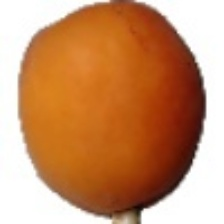apricot: (12, 2, 175, 197)
